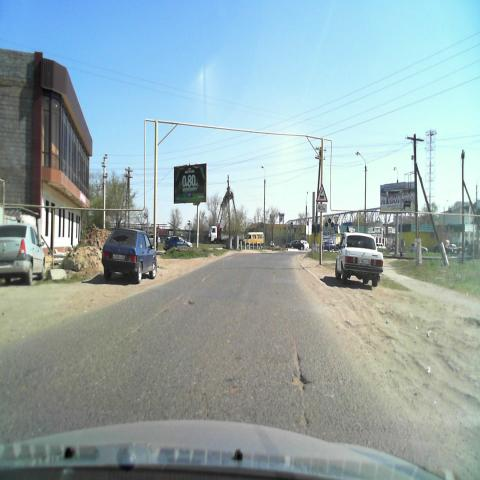1_2: (316, 184, 327, 202)
